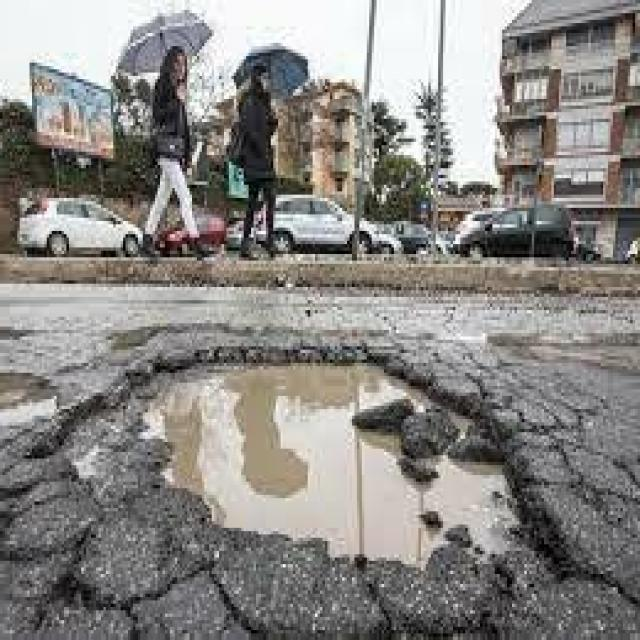pothole: (3, 340, 596, 621)
